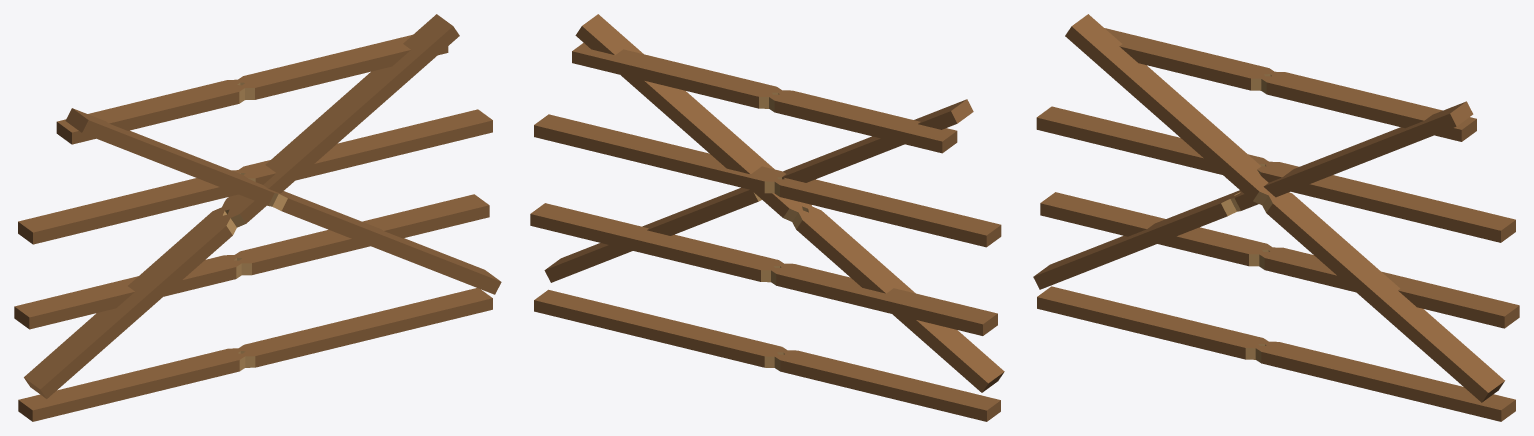
The model's file is DeadRail_Tunnel_Exit_Debris.fbx.
3 renders of one model, left to right at view 1: azimuth 30°, elevation 25°; view 2: azimuth 150°, elevation 25°; view 3: azimuth 330°, elevation 25°, orthographic. The views are drawn at different scales.
Visible parts, largest first — view 1: Wood_Splinter_04_1.001, Wood_Splinter_04_0.001, Wood_Splinter_00_1.001, Wood_Splinter_01_1.001, Wood_Splinter_00_0.001, Wood_Splinter_02_0.001, Wood_Splinter_02_1.001, Wood_Splinter_05_1.001, Wood_Splinter_01_0.001, Wood_Splinter_03_1.001, Wood_Splinter_05_0.001, Wood_Splinter_03_0.001; view 2: Wood_Splinter_04_0.001, Wood_Splinter_01_1.001, Wood_Splinter_04_1.001, Wood_Splinter_00_1.001, Wood_Splinter_02_1.001, Wood_Splinter_02_0.001, Wood_Splinter_00_0.001, Wood_Splinter_01_0.001, Wood_Splinter_03_1.001, Wood_Splinter_03_0.001, Wood_Splinter_05_1.001, Wood_Splinter_05_0.001; view 3: Wood_Splinter_05_1.001, Wood_Splinter_05_0.001, Wood_Splinter_00_1.001, Wood_Splinter_02_1.001, Wood_Splinter_00_0.001, Wood_Splinter_01_0.001, Wood_Splinter_01_1.001, Wood_Splinter_03_1.001, Wood_Splinter_02_0.001, Wood_Splinter_04_1.001, Wood_Splinter_04_0.001, Wood_Splinter_03_0.001.
Part boxes in pixels (bbox=[...]): Wood_Splinter_04_1.001: bbox=[222, 14, 459, 227]; Wood_Splinter_04_0.001: bbox=[24, 205, 236, 398]; Wood_Splinter_00_1.001: bbox=[235, 288, 492, 367]; Wood_Splinter_01_1.001: bbox=[235, 194, 489, 275]; Wood_Splinter_00_0.001: bbox=[18, 348, 247, 421]; Wood_Splinter_02_0.001: bbox=[18, 170, 247, 244]; Wood_Splinter_02_1.001: bbox=[236, 109, 492, 184]; Wood_Splinter_05_1.001: bbox=[272, 191, 501, 294]; Wood_Splinter_01_0.001: bbox=[14, 255, 243, 329]; Wood_Splinter_03_1.001: bbox=[236, 34, 448, 99]; Wood_Splinter_05_0.001: bbox=[65, 108, 278, 206]; Wood_Splinter_03_0.001: bbox=[56, 79, 247, 144]; Wood_Splinter_04_0.001: bbox=[792, 204, 1004, 392]; Wood_Splinter_01_1.001: bbox=[530, 203, 783, 282]; Wood_Splinter_04_1.001: bbox=[575, 14, 811, 221]; Wood_Splinter_00_1.001: bbox=[534, 289, 786, 367]; Wood_Splinter_02_1.001: bbox=[534, 114, 785, 193]; Wood_Splinter_02_0.001: bbox=[771, 175, 1001, 247]; Wood_Splinter_00_0.001: bbox=[772, 350, 1000, 421]; Wood_Splinter_01_0.001: bbox=[771, 263, 997, 335]; Wood_Splinter_03_1.001: bbox=[572, 43, 781, 108]; Wood_Splinter_03_0.001: bbox=[766, 90, 957, 153]; Wood_Splinter_05_1.001: bbox=[544, 187, 761, 282]; Wood_Splinter_05_0.001: bbox=[782, 99, 973, 182]; Wood_Splinter_05_1.001: bbox=[1262, 191, 1504, 402]; Wood_Splinter_05_0.001: bbox=[1065, 14, 1268, 204]; Wood_Splinter_00_1.001: bbox=[1253, 341, 1515, 421]; Wood_Splinter_02_1.001: bbox=[1257, 161, 1515, 242]; Wood_Splinter_00_0.001: bbox=[1037, 286, 1271, 359]; Wood_Splinter_01_0.001: bbox=[1040, 192, 1275, 266]; Wood_Splinter_01_1.001: bbox=[1259, 247, 1519, 328]; Wood_Splinter_03_1.001: bbox=[1261, 71, 1476, 141]; Wood_Splinter_02_0.001: bbox=[1036, 106, 1271, 174]; Wood_Splinter_04_1.001: bbox=[1230, 101, 1473, 211]; Wood_Splinter_04_0.001: bbox=[1033, 190, 1241, 289]; Wood_Splinter_03_0.001: bbox=[1104, 28, 1275, 90].
Size of the model in its own units: 8.8 by 5.46 by 0.965.
